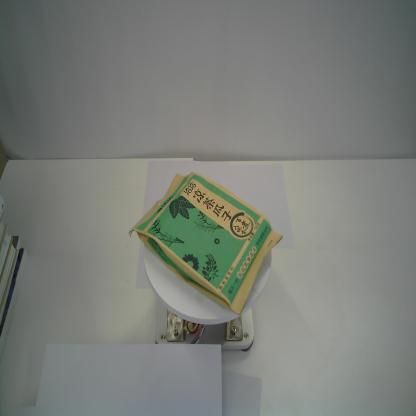Dried Food: (126, 171, 284, 316)
